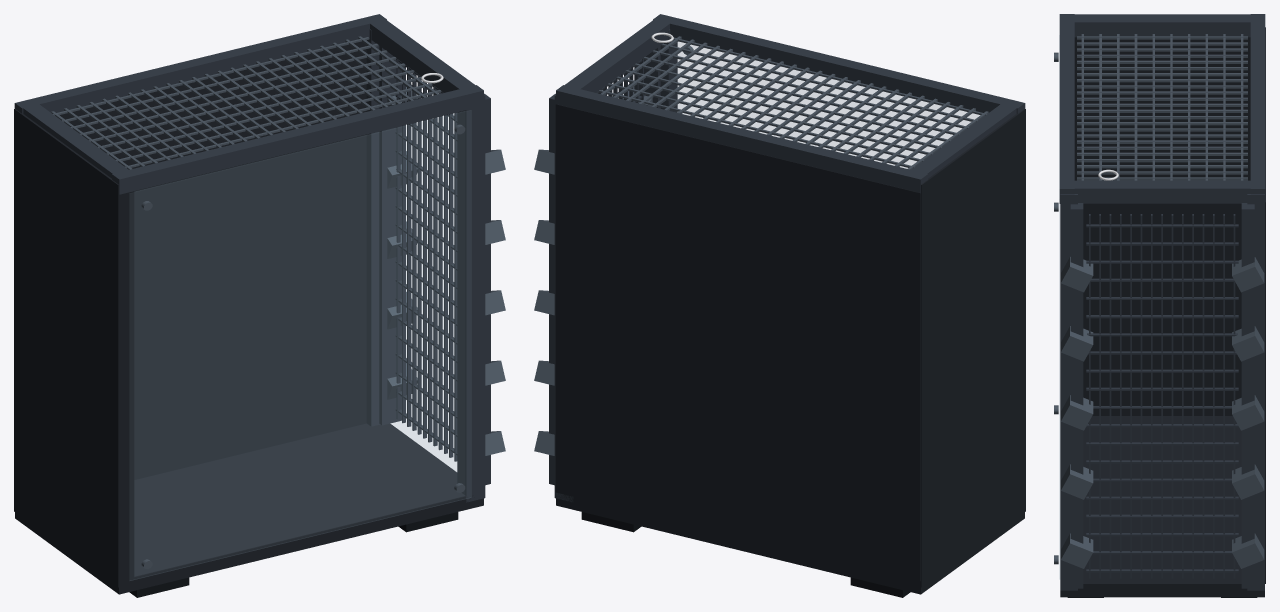
Rendered from pc-case.glb.
3 renders of one model, left to right at view 1: azimuth 30°, elevation 25°; view 2: azimuth 150°, elevation 25°; view 3: azimuth 270°, elevation 25°, orthographic.
Visible parts, largest first — view 1: case (×33); view 2: case (×20); view 3: case (×91).
Boxes of the visible parts, x1,y1,x2,y2 form: case (×33): (14, 14, 490, 594); case (×20): (549, 14, 1025, 594); case (×91): (1059, 14, 1265, 597).
Bounding box in the file's own units: 4.79 × 5.06 × 2.3.
